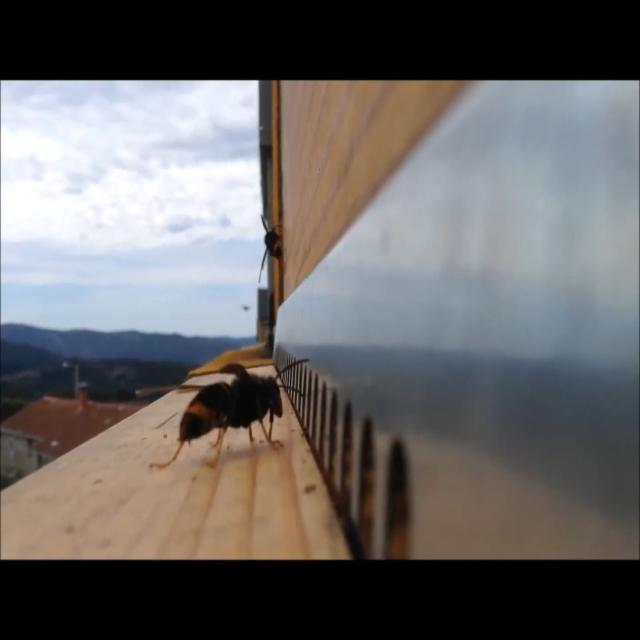Hornets: (132, 355, 312, 472)
